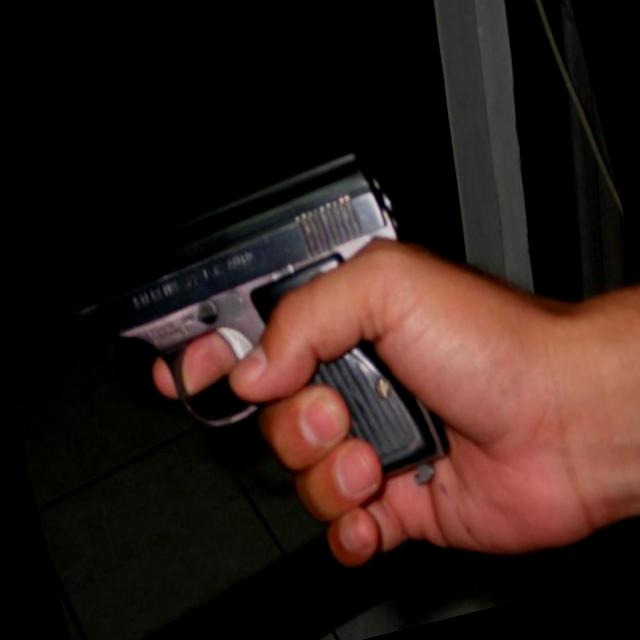handgun: (43, 137, 463, 544)
